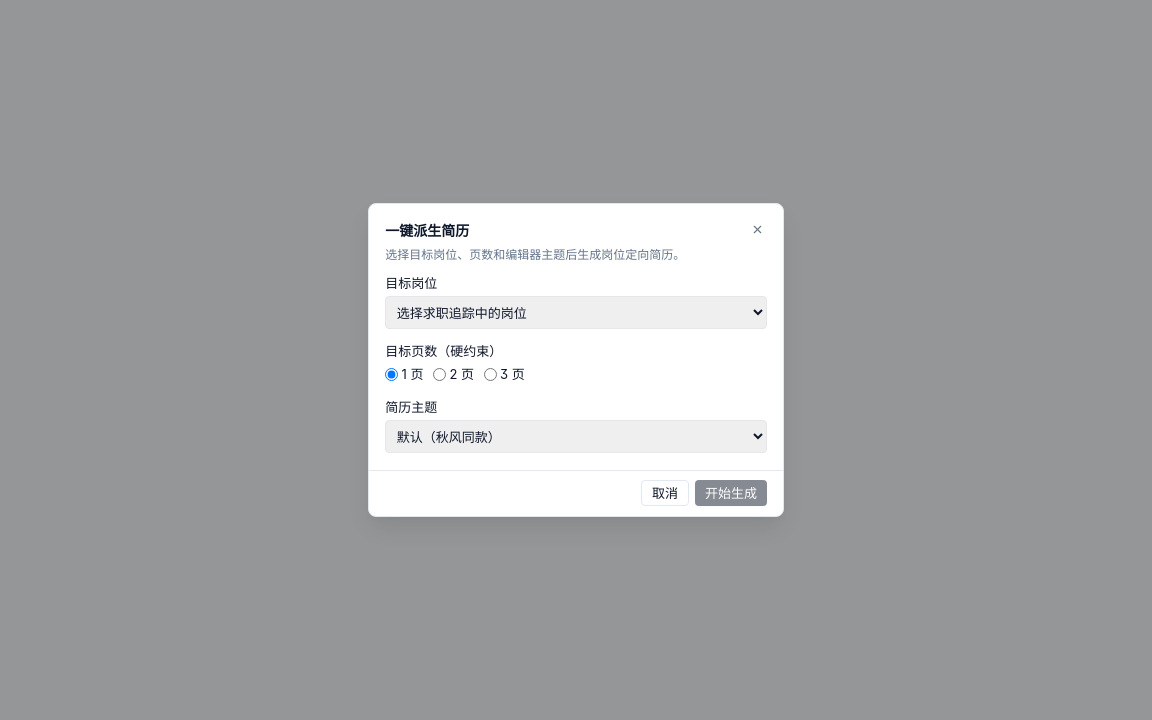
DeriveWizard › blocks derive when selected job has no JD
Expected: the element with test id "derive-wizard" is shown, [385,274,767,453]
Select "NoJD Corp · Engineer（无 JD）" in the dropdown with test id "derive-job-select" at (576, 313), box [385,296,767,329]
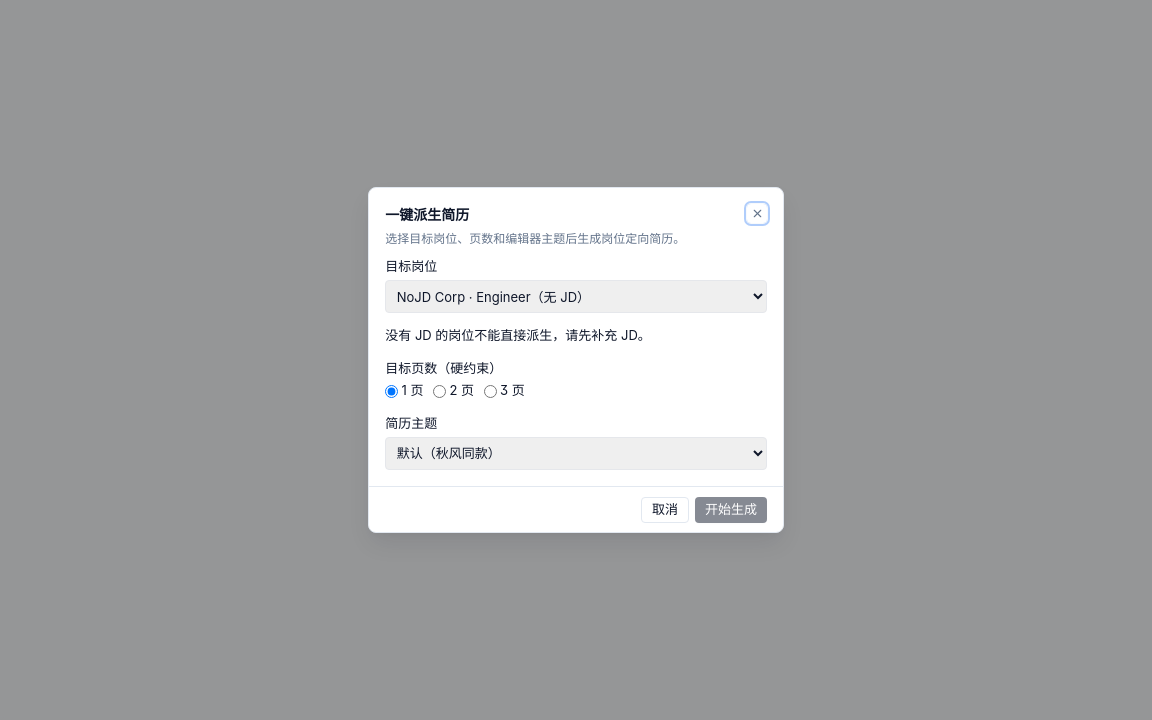
Expected: the button with test id "derive-start-btn" is disabled, [695,497,767,523]
Now the text "没有 JD 的岗位不能直接派生，请先补充 JD。" is shown, box [385,327,651,343]
